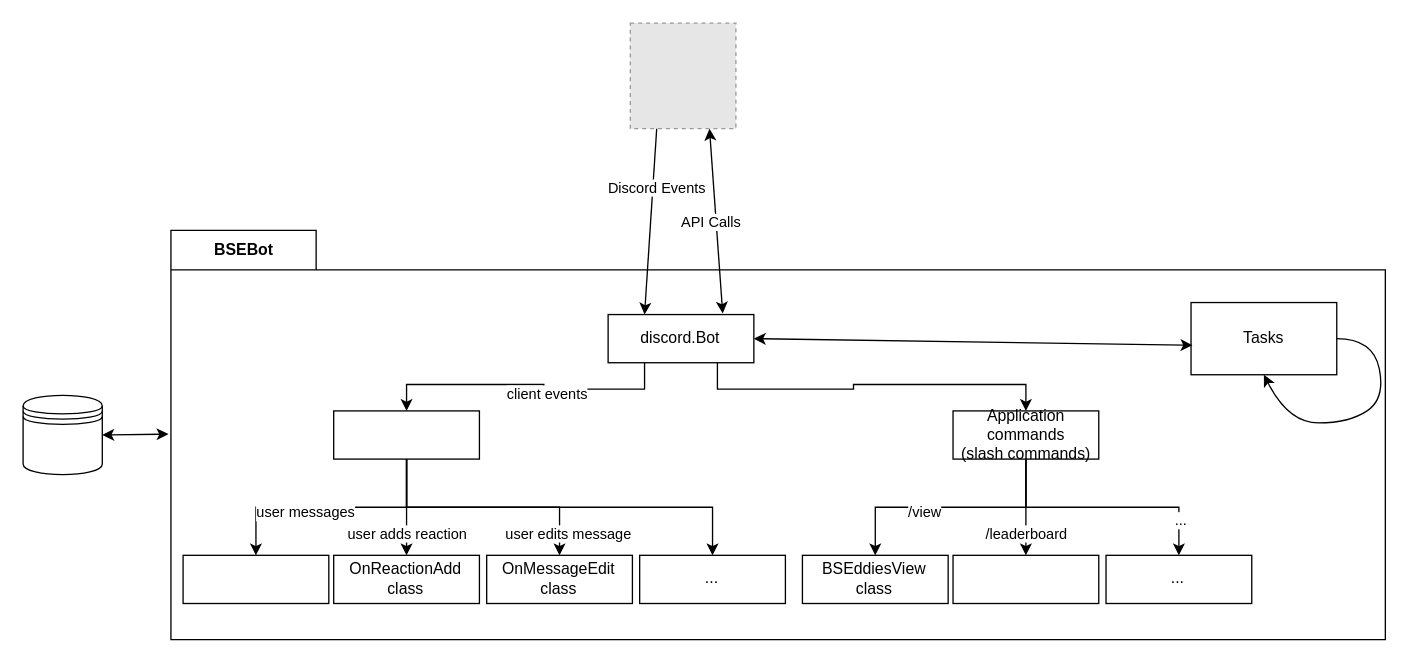
The diagram is 1408 pixels wide and 663 high, and some of its shapes have lost their labels. Grey dashed boxes stand in for pictures. Here are the shapes that lost their labels. From the top down, the centre of each, then its label:
At [62,434]: "Database".
At [405,434]: "Client events (ie, user does something)".
At [255,579]: "OnMessage class".
At [1025,579]: "BSEddies Leaderboard class".
